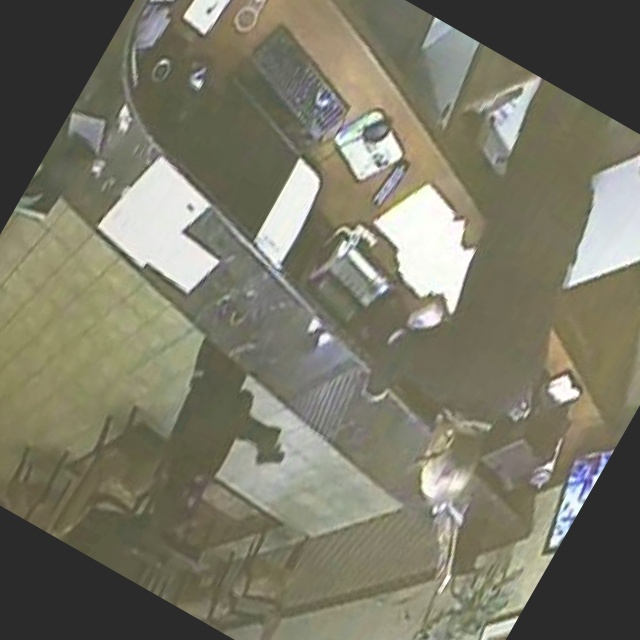gun: (245, 414, 303, 478)
